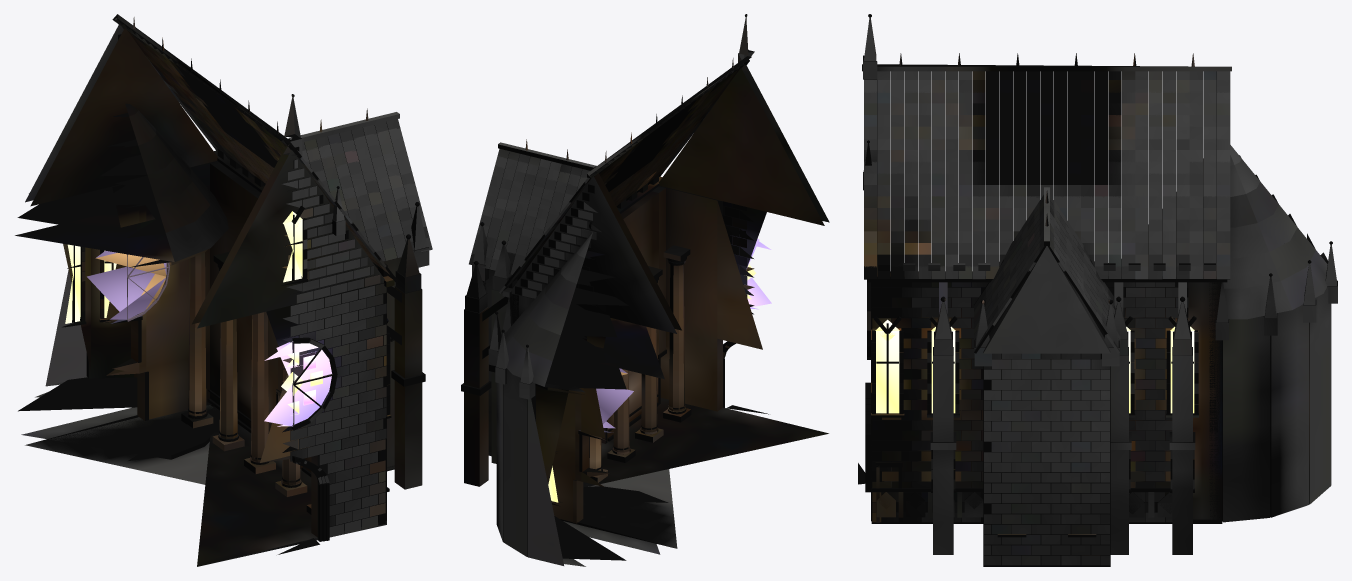
Rendered from gothic_main-east-GI.glb.
3 renders of one model, left to right at view 1: azimuth 30°, elevation 25°; view 2: azimuth 150°, elevation 25°; view 3: azimuth 270°, elevation 25°, orthographic. The views are drawn at different scales.
Visible parts, largest first — view 1: main, glow; view 2: main, glow; view 3: main, glow.
Boxes of the visible parts, x1,y1,x2,y2 form: main: (15, 14, 432, 566); glow: (65, 211, 331, 426); main: (461, 14, 829, 566); glow: (548, 238, 771, 502); main: (858, 14, 1337, 566); glow: (875, 319, 1194, 413).
Bounding box in the file's own units: 21.2 × 32.03 × 30.09.
Materials: 8 (1 with a texture image).
